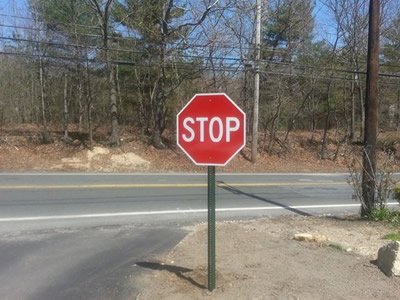stop: (177, 94, 246, 165)
